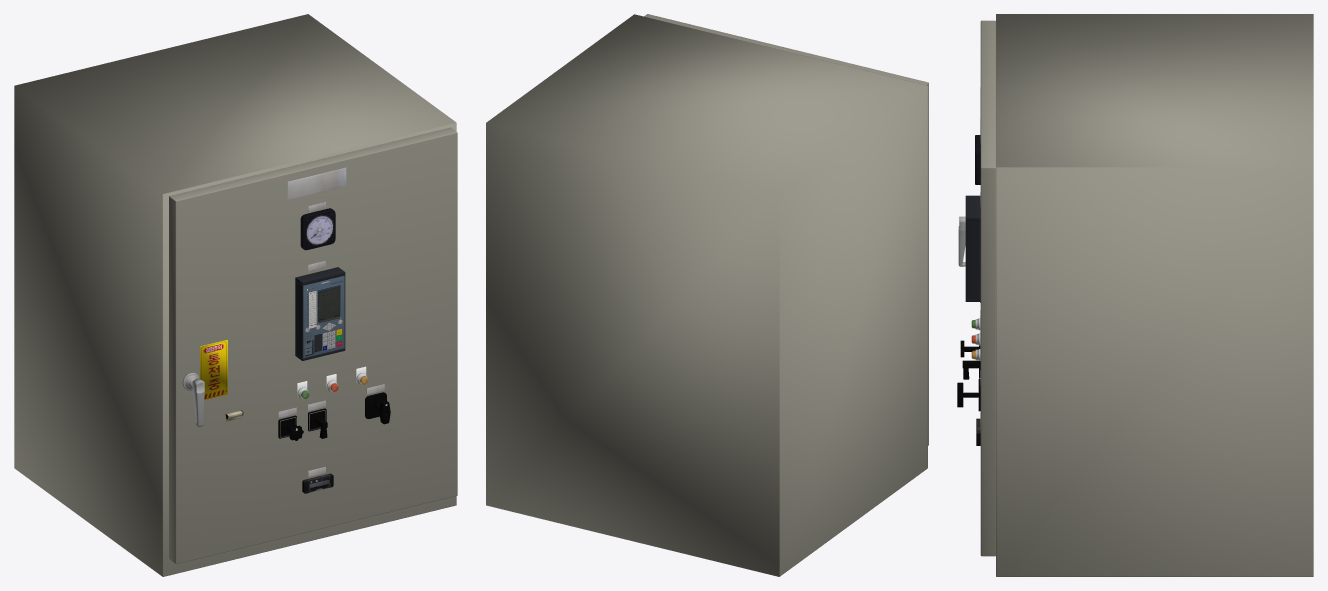
3 renders of one model, left to right at view 1: azimuth 30°, elevation 25°; view 2: azimuth 150°, elevation 25°; view 3: azimuth 270°, elevation 25°, orthographic. The views are drawn at different scales.
Visible parts, largest first — view 1: Group004, u2_door_b, Box211, warn012, Box210, u01A_dia027, u01A_np013, handle050; view 2: Group004, u2_door_b; view 3: Group004, u2_door_b, Box210.
Part boxes in pixels (x1,y1,x2,y2): Group004: (14, 14, 456, 576); u2_door_b: (169, 127, 457, 564); Box211: (303, 276, 344, 358); warn012: (200, 339, 227, 400); Box210: (295, 267, 345, 360); u01A_dia027: (300, 208, 335, 250); u01A_np013: (287, 167, 346, 200); handle050: (182, 372, 204, 426); Group004: (486, 14, 927, 576); u2_door_b: (644, 14, 928, 445); Group004: (964, 14, 1313, 576); u2_door_b: (980, 20, 995, 556); Box210: (965, 195, 980, 301).
Size of the model in its own units: 0.96 by 1.19 by 0.9424.
19 materials, 9 textured.
